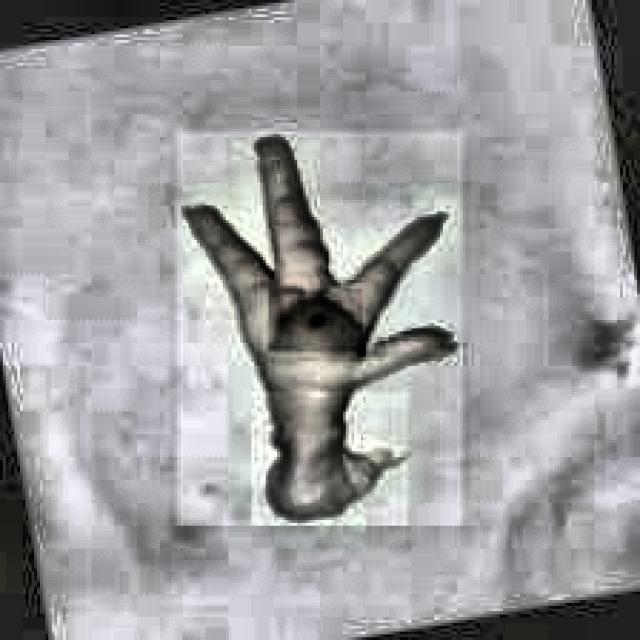Bumble foot: (177, 131, 457, 520)
